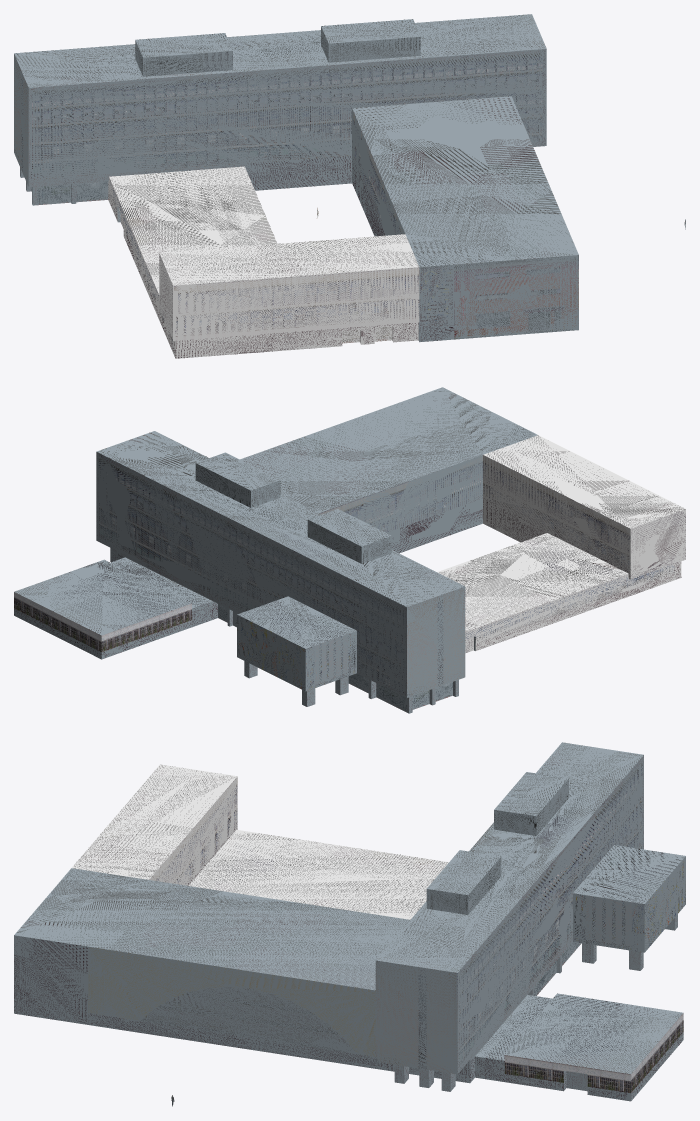
The model's file is Polska Akademia Nauk Instytut Maszyn Przepływowych.fbx.
The picture shows the model from 3 angles, top to bottom: view 1: azimuth 30°, elevation 25°; view 2: azimuth 150°, elevation 25°; view 3: azimuth 270°, elevation 25°; orthographic projection. The views are drawn at different scales.
Parts seen in each view (by area): view 1: projekt1; view 2: projekt1; view 3: projekt1.
Boxes of the visible parts, x1,y1,x2,y2 form: projekt1: (14, 14, 578, 358); projekt1: (14, 387, 685, 713); projekt1: (14, 742, 685, 1101).
Size of the model in its own units: 3459 by 884 by 3714.
